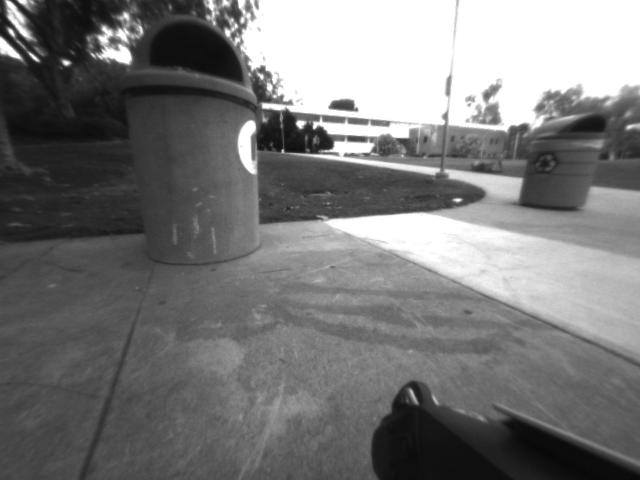trashcan: (107, 4, 272, 274)
